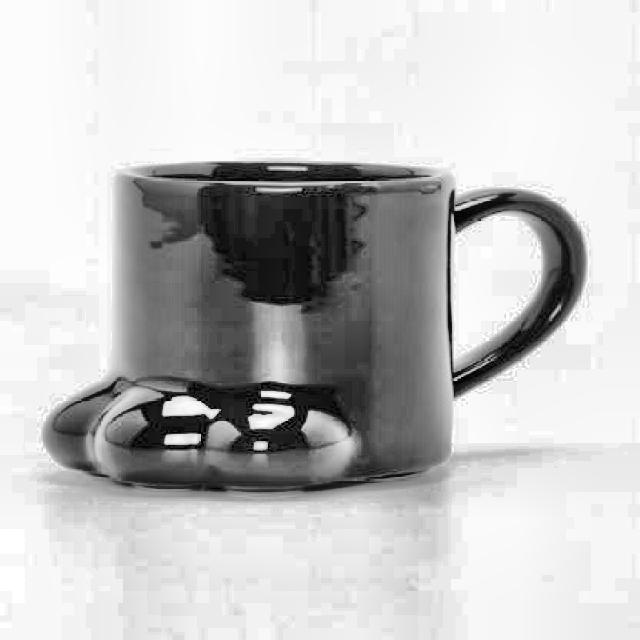Mug: (40, 159, 588, 498)
